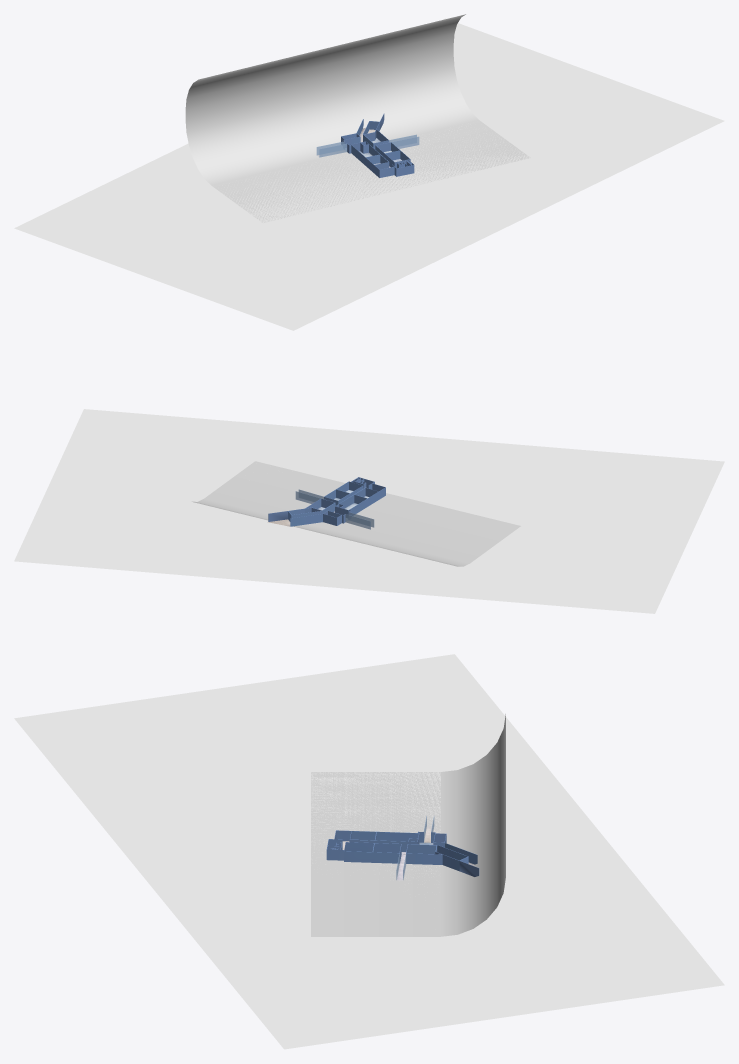
The picture shows the model from 3 angles, top to bottom: view 1: azimuth 30°, elevation 25°; view 2: azimuth 150°, elevation 25°; view 3: azimuth 270°, elevation 25°; orthographic projection. The views are drawn at different scales.
Parts seen in each view (by area): view 1: Empty.002, Backdrop, Walls.001, Bridge_Corridor; view 2: Empty.002, Backdrop, Walls.001, Bridge_Corridor; view 3: Empty.002, Backdrop, Walls.001.
Part boxes in pixels (x1,y1,x2,y2): Empty.002: (14, 18, 724, 330); Backdrop: (185, 14, 530, 222); Walls.001: (341, 113, 414, 177); Bridge_Corridor: (316, 134, 419, 157); Empty.002: (14, 409, 724, 613); Backdrop: (192, 461, 520, 566); Walls.001: (268, 477, 385, 526); Bridge_Corridor: (295, 489, 374, 529); Empty.002: (14, 654, 724, 1049); Backdrop: (311, 714, 505, 936); Walls.001: (326, 830, 479, 876).
Bounding box in the file's own units: 71.98 × 11 × 54.7.
Materials: 3 (3 with a texture image).
